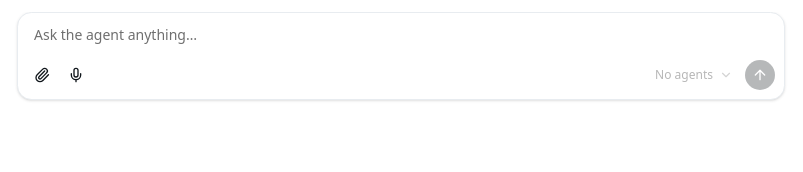
Scenario: Composer @-file-mention browser (native sessions) › ArrowDown moves to the next row and Enter acts on the highlighted one
This screenshot has width=803, height=172.
Step 1. Type "@" into the text box named "Message the agent" → (401, 33), box [18,13,784,53]
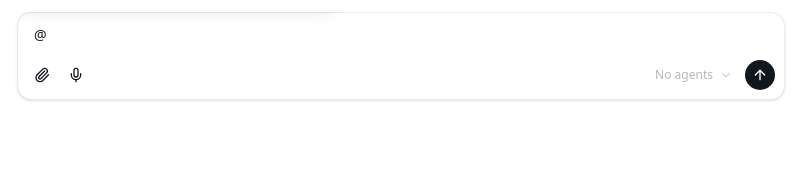
Step 2. Press ArrowDown in the text box named "Message the agent", box [18,13,784,53]
Step 3. Press Enter in the text box named "Message the agent", box [18,13,784,53]
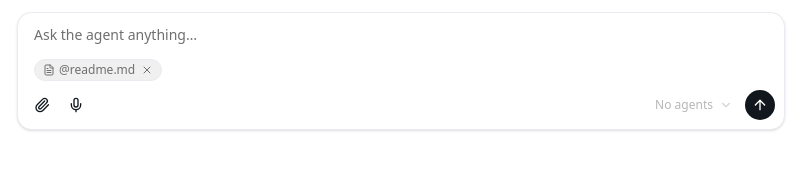
Expected: the text "@readme.md" is shown, [59,62,135,78]
